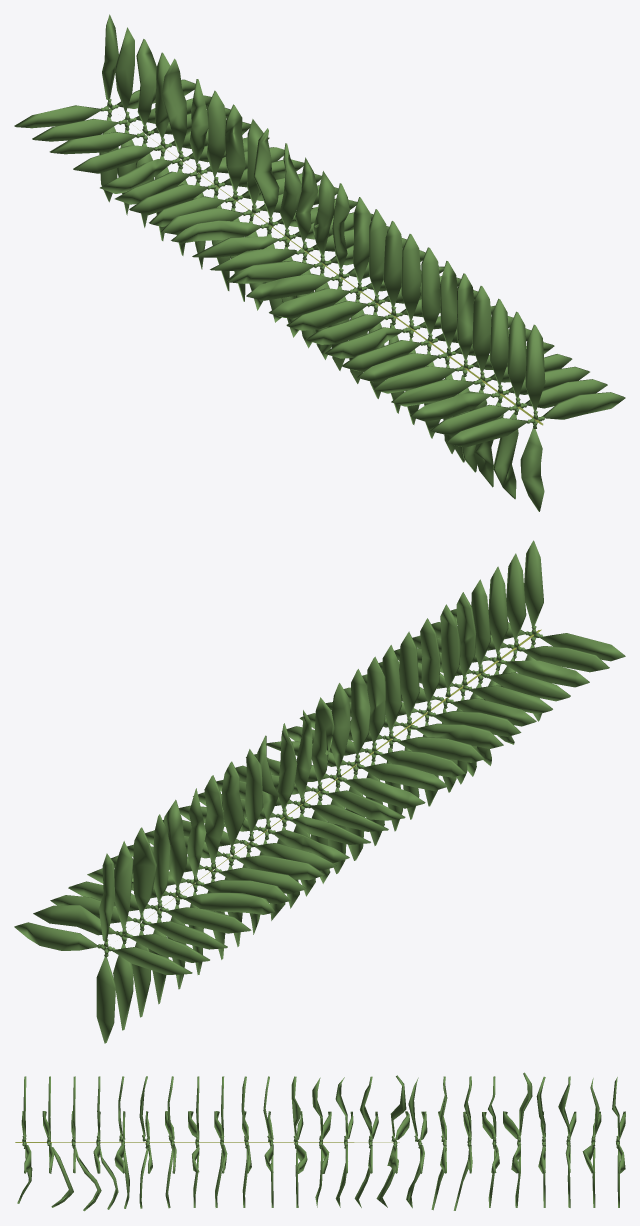
Rendered from BG Final Kelp.fbx.
The picture shows the model from 3 angles, top to bottom: view 1: azimuth 30°, elevation 25°; view 2: azimuth 150°, elevation 25°; view 3: azimuth 270°, elevation 25°; orthographic projection. The views are drawn at different scales.
Parts seen in each view (by area): view 1: Algas.001; view 2: Algas.001; view 3: Algas.001.
Part boxes in pixels (box(x1,y1,x2,y2)): Algas.001: box(14, 14, 625, 511); Algas.001: box(14, 540, 625, 1043); Algas.001: box(15, 1072, 625, 1211).
Bounding box in the file's own units: 2414 × 2529 × 10132.
